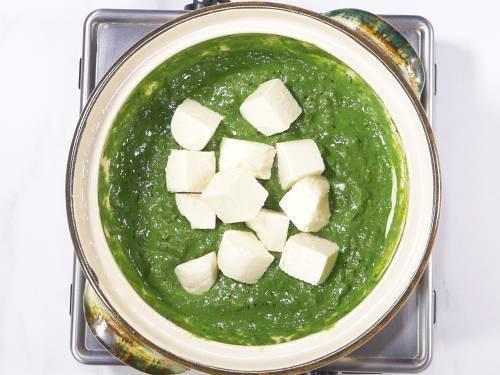PalakPaneer: (103, 34, 409, 345)
